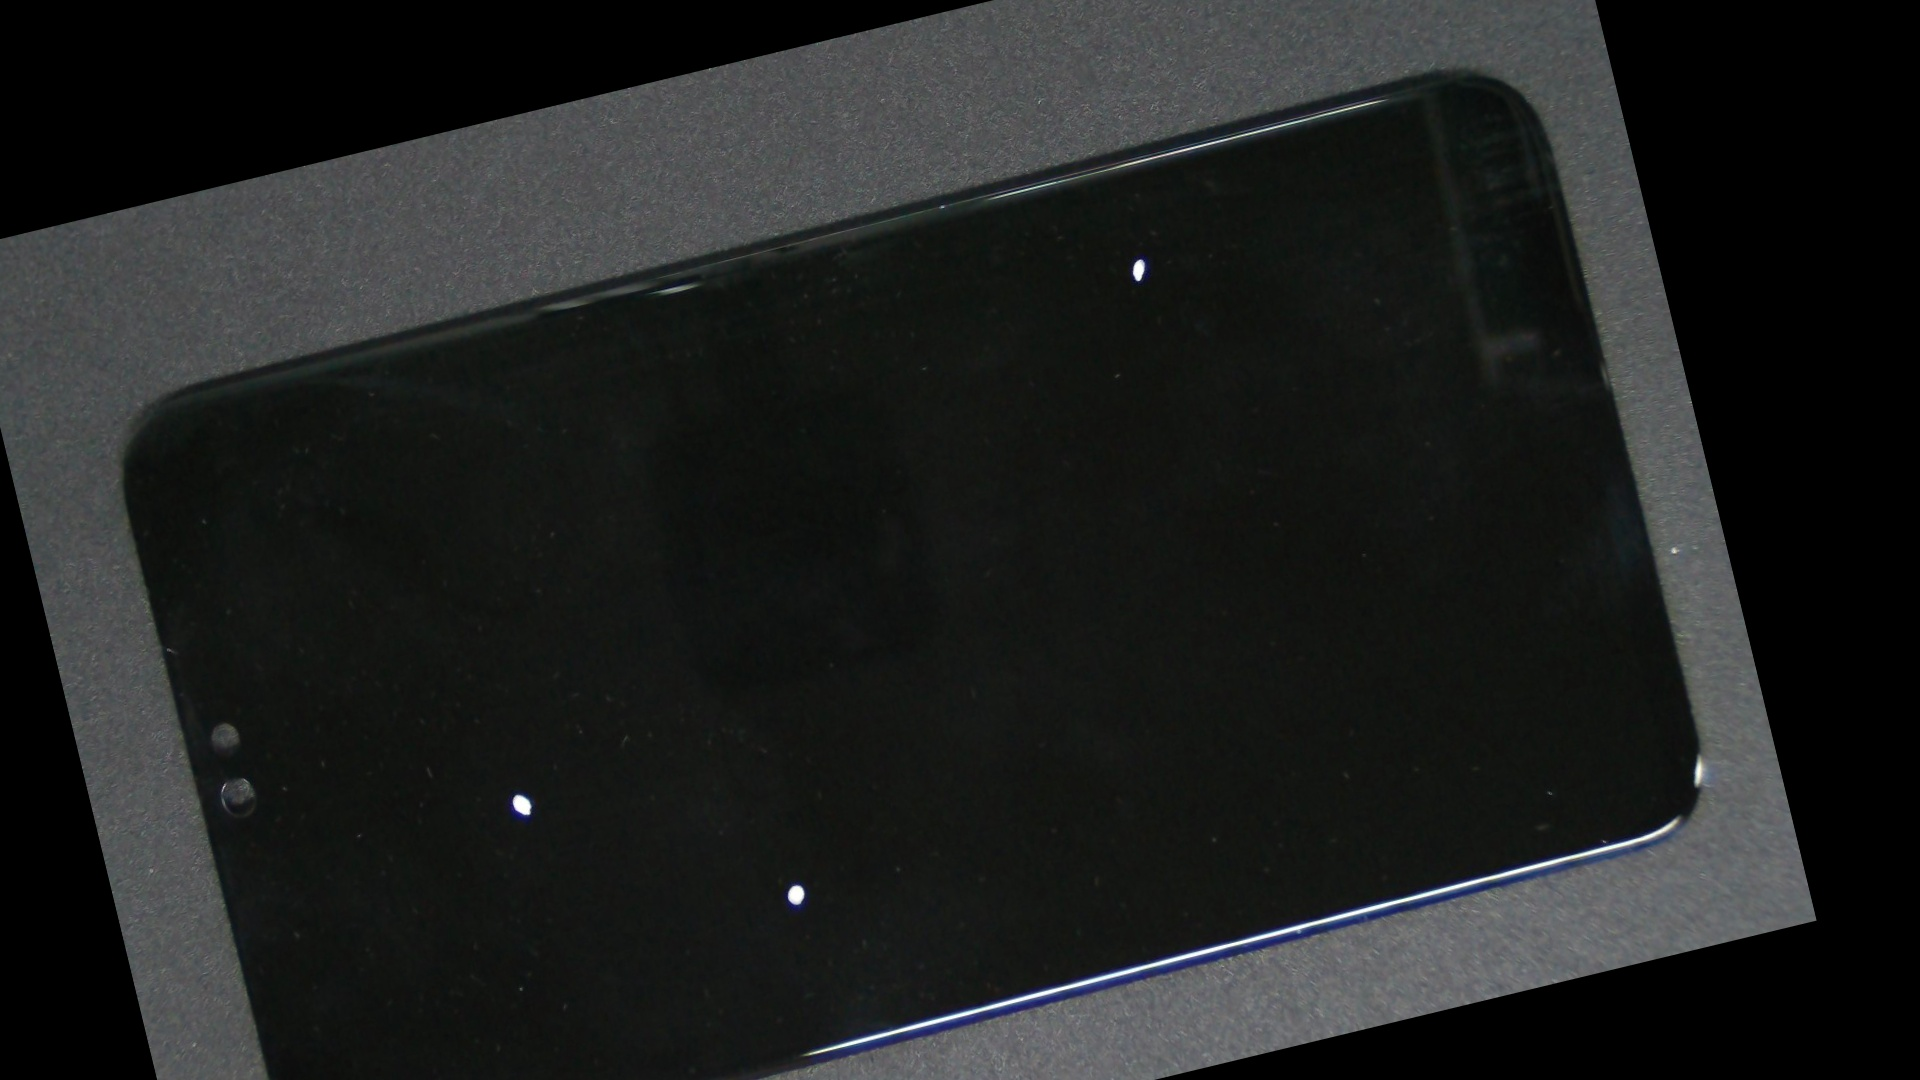oil: (547, 1, 1663, 531), (375, 413, 1175, 1080), (237, 423, 795, 1080)
